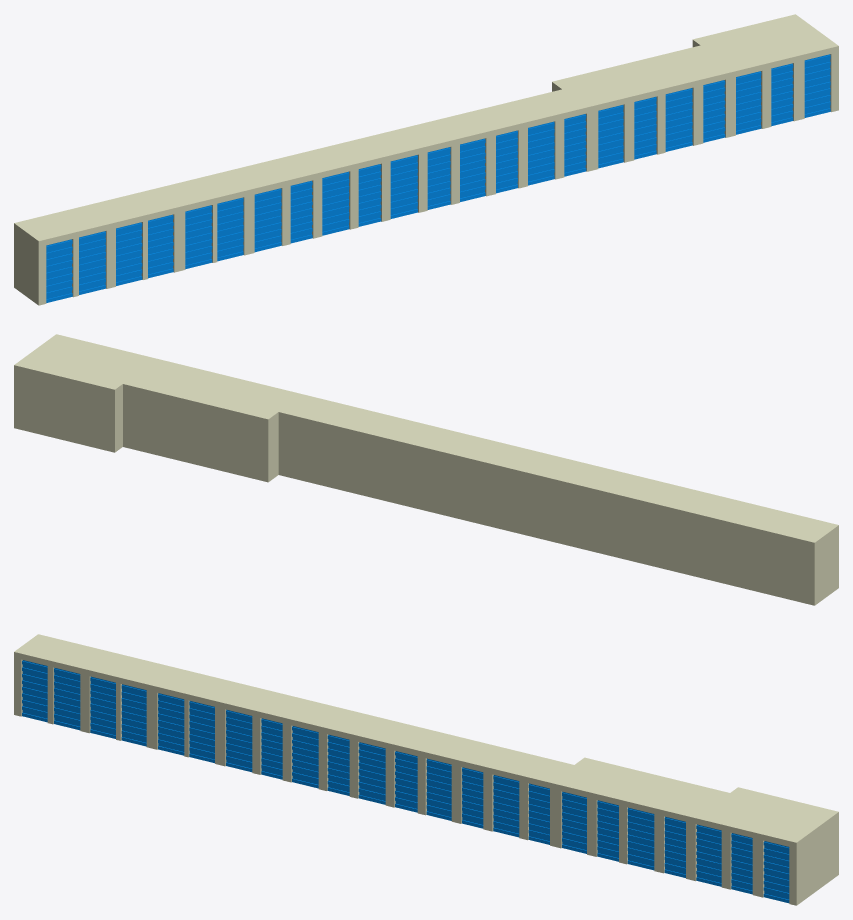
File: cantontest-transformed.glb
The picture shows the model from 3 angles, top to bottom: view 1: azimuth 30°, elevation 25°; view 2: azimuth 150°, elevation 25°; view 3: azimuth 330°, elevation 25°; orthographic projection. The views are drawn at different scales.
Visible parts, largest first — view 1: Plane.001, Plane, Plane.008, Plane.020, Plane.012, Plane.010, Plane.006, Plane.007, Plane.024, Plane.004, Plane.016, Plane.003 (+13 smaller); view 2: Plane, Plane.001; view 3: Plane.001, Plane, Plane.012, Plane.020, Plane.006, Plane.016, Plane.008, Plane.004, Plane.010, Plane.024, Plane.003, Plane.007 (+13 smaller).
Part boxes in pixels (x1,y1,x2,y2): Plane.001: [14, 14, 838, 246]; Plane: [14, 45, 838, 305]; Plane.008: [254, 188, 281, 252]; Plane.020: [665, 88, 692, 151]; Plane.012: [390, 155, 417, 218]; Plane.010: [322, 171, 349, 235]; Plane.006: [185, 205, 212, 269]; Plane.007: [217, 197, 243, 261]; Plane.024: [804, 54, 830, 117]; Plane.004: [79, 231, 105, 294]; Plane.016: [528, 121, 554, 185]; Plane.003: [46, 239, 72, 302]; Plane: [14, 371, 838, 605]; Plane.001: [14, 334, 838, 548]; Plane.001: [14, 634, 838, 848]; Plane: [14, 657, 838, 905]; Plane.012: [358, 742, 385, 804]; Plane.020: [627, 807, 654, 870]; Plane.006: [158, 693, 184, 755]; Plane.016: [493, 775, 519, 837]; Plane.008: [226, 709, 252, 772]; Plane.004: [54, 667, 80, 730]; Plane.010: [292, 726, 318, 788]; Plane.024: [763, 841, 789, 903]; Plane.003: [22, 660, 47, 722]; Plane.007: [189, 701, 214, 763].
Size of the model in its own units: 126 by 9.74 by 11.85.
